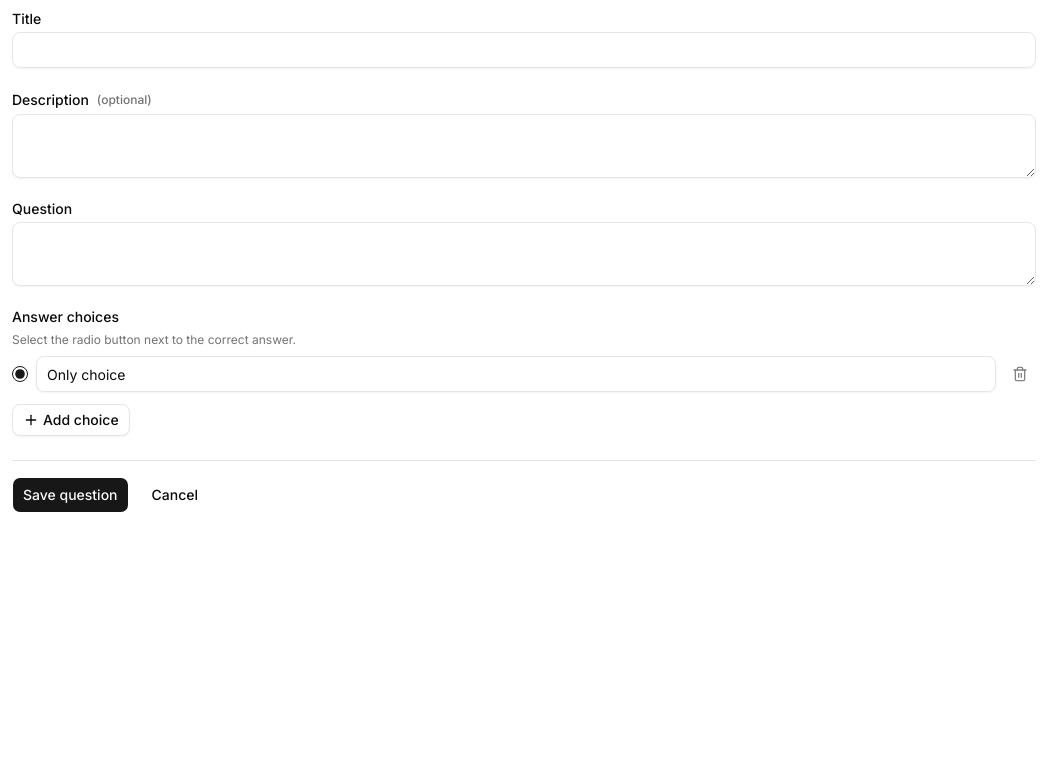
QuestionForm — form validation › shows a validation error when fewer than 2 choices exist on submit
The width and height of the screenshot is (1048, 780).
Type "Sample Question Title" into the field labelled "Title".
click(524, 50); type("Sample Question Title")  # box [12,32,1036,68]
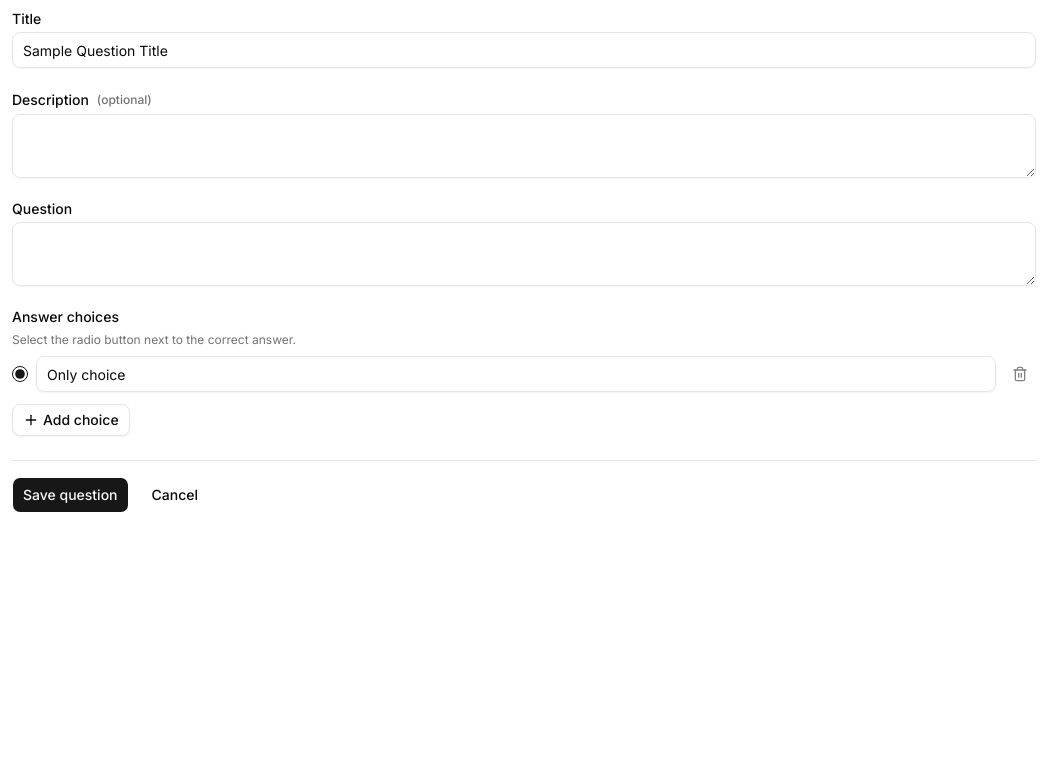
Type "What is the capital of France?" into the text box labelled "Question".
click(524, 254); type("What is the capital of France?")  # box [12,222,1036,286]
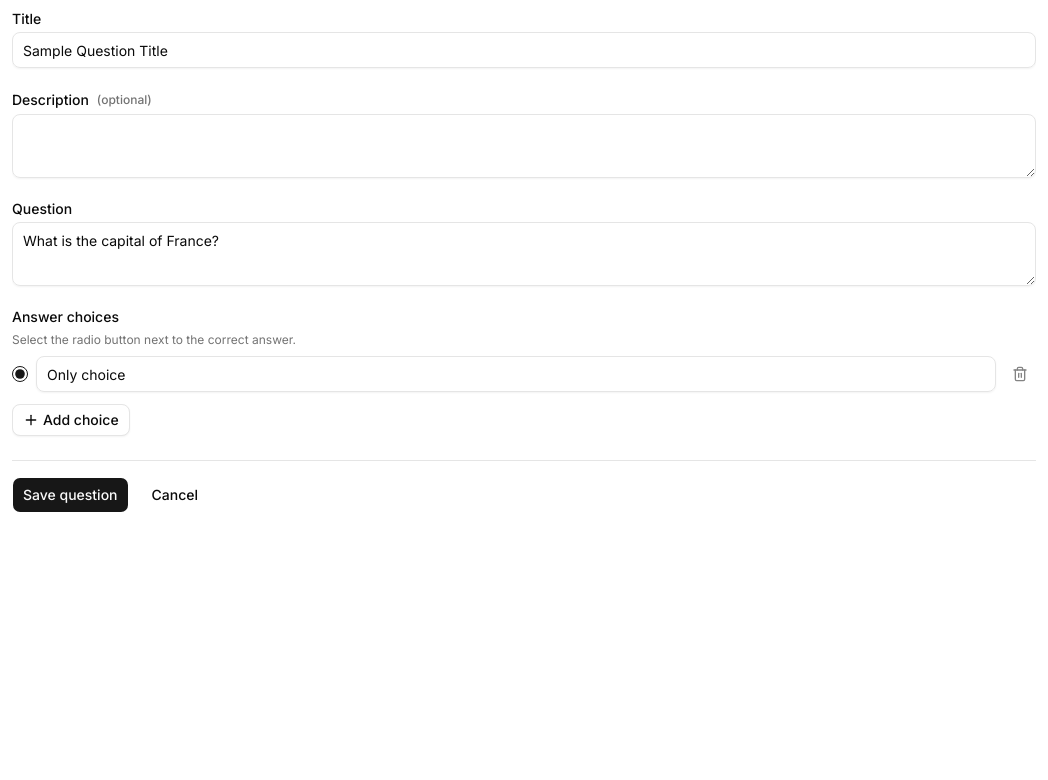
Click the button "Save question".
click(70, 495)  # box [12,477,128,513]
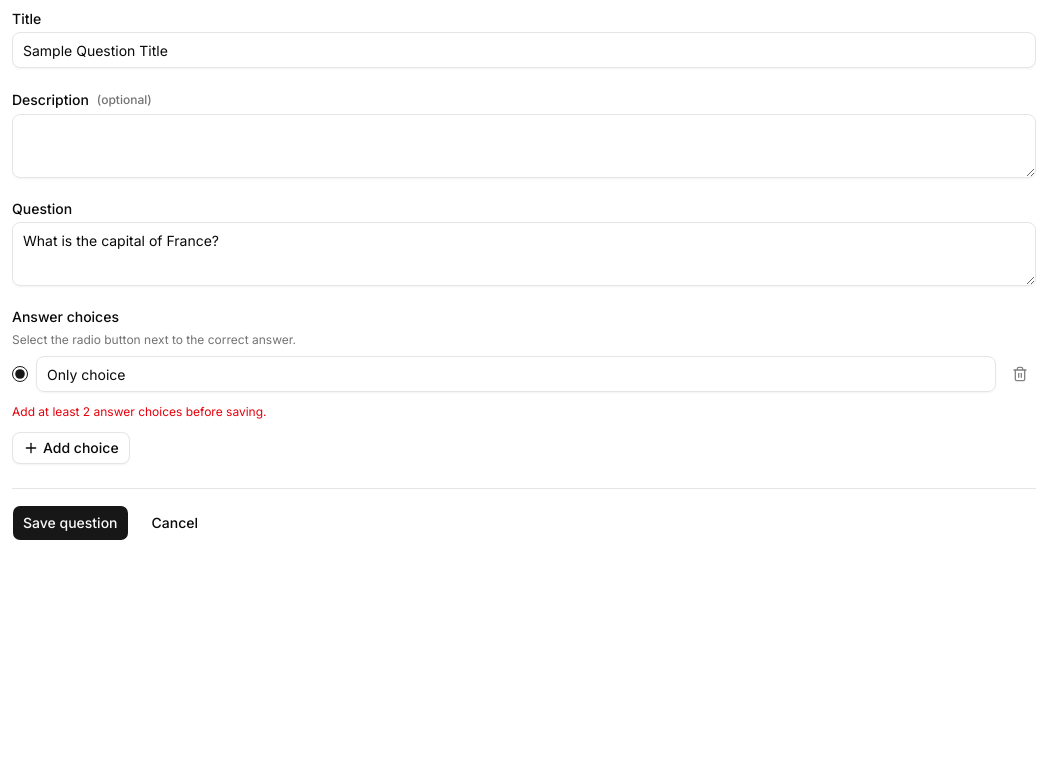
Now the message shows "at least 2", box [12,404,266,419]
